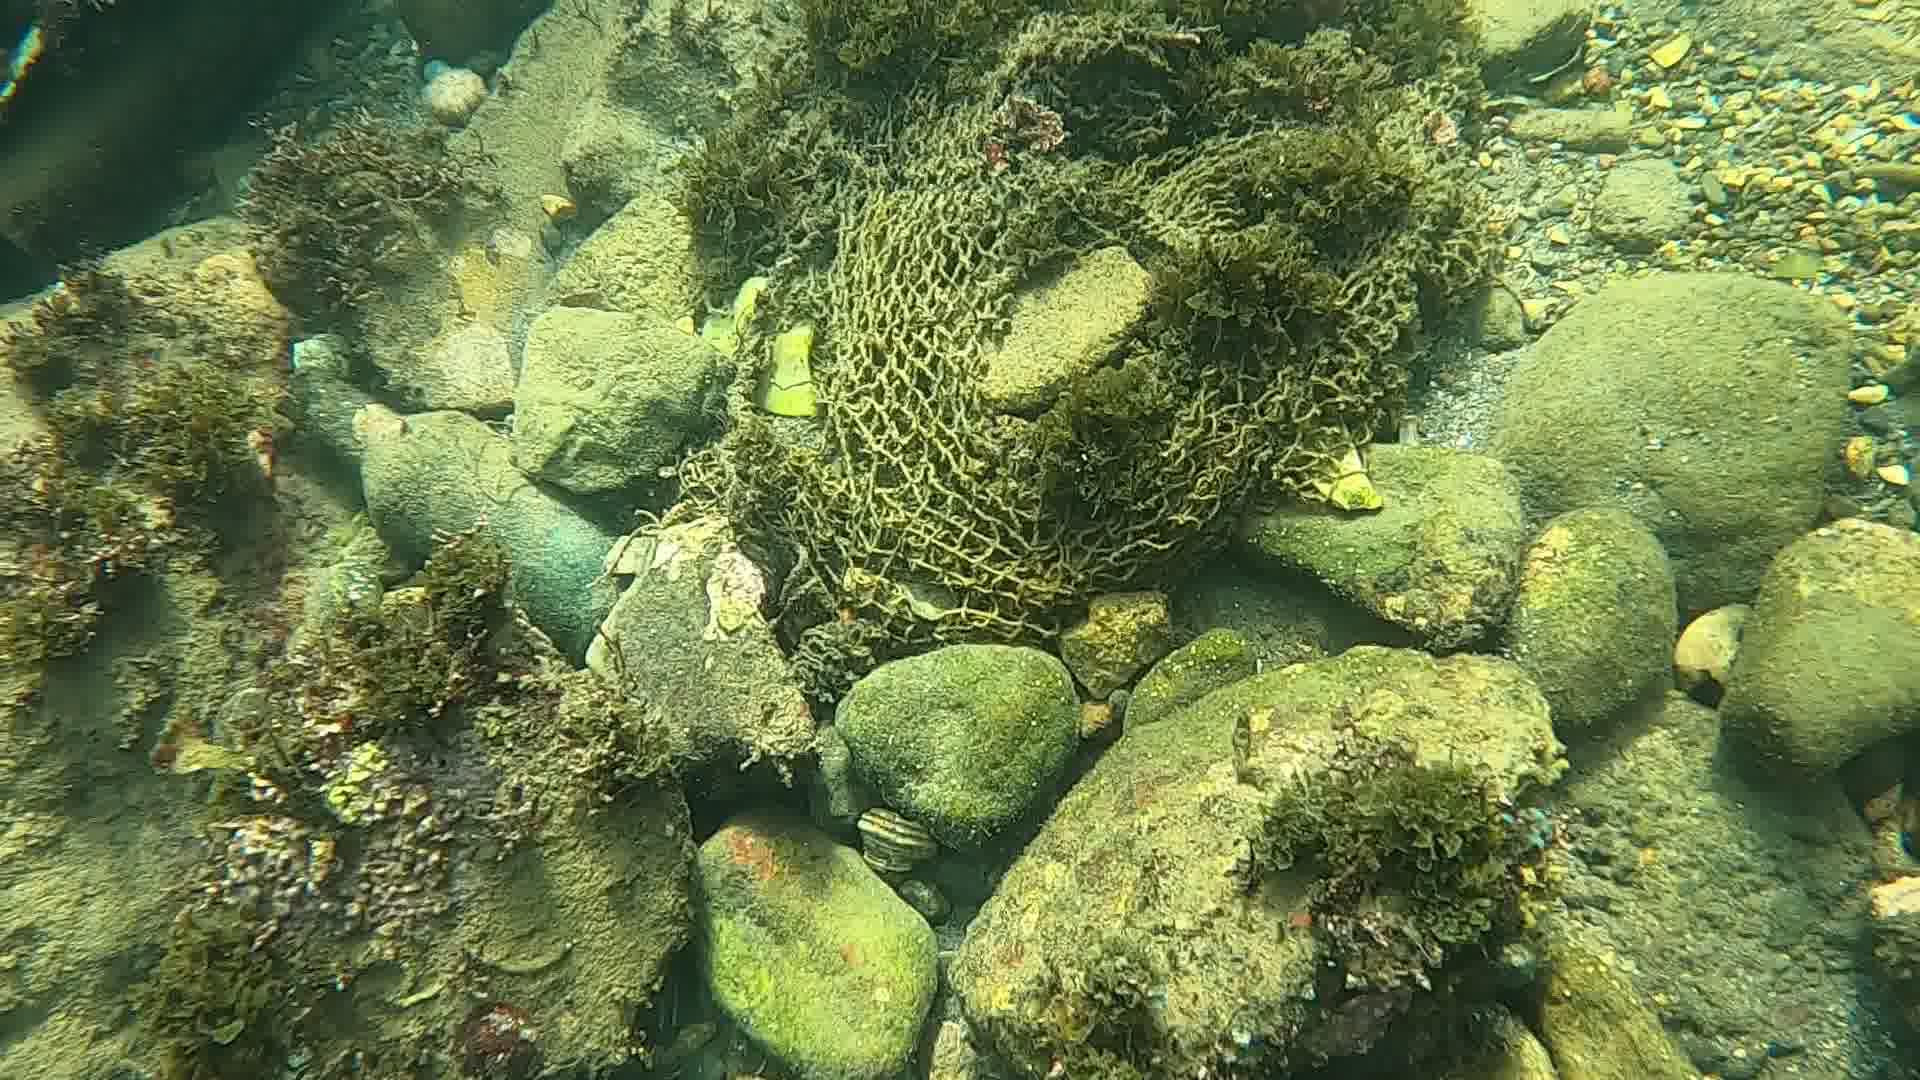fish net: (729, 220, 1490, 647)
